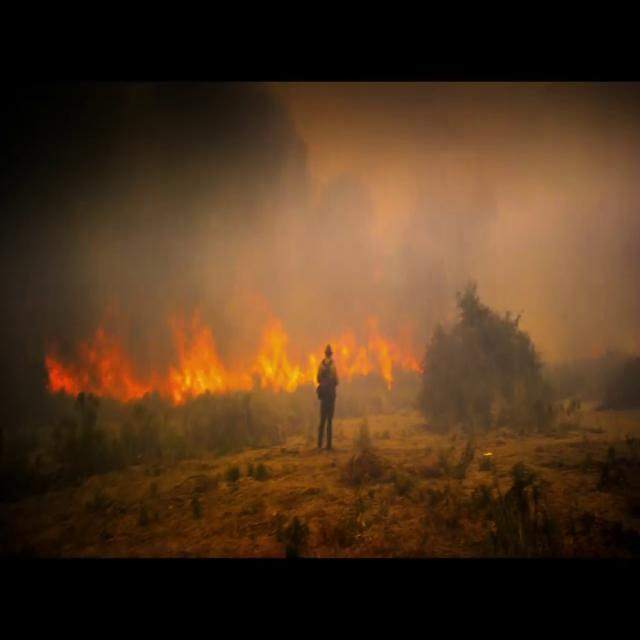Fire: (46, 308, 314, 414), (295, 310, 438, 410)
Smoke: (281, 122, 620, 301), (15, 106, 332, 278)
